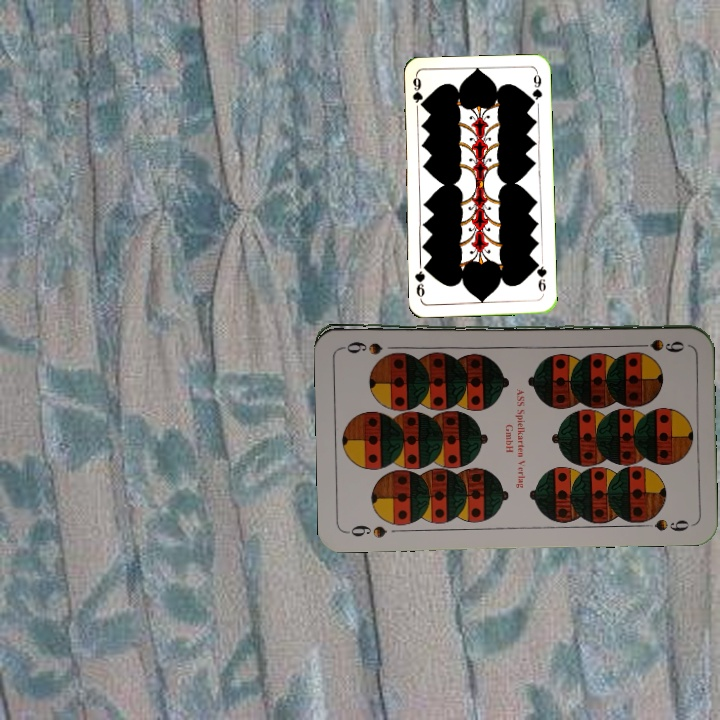G9: (408, 72, 426, 111), (532, 258, 549, 294)
S9: (629, 336, 686, 352), (342, 521, 389, 540)
